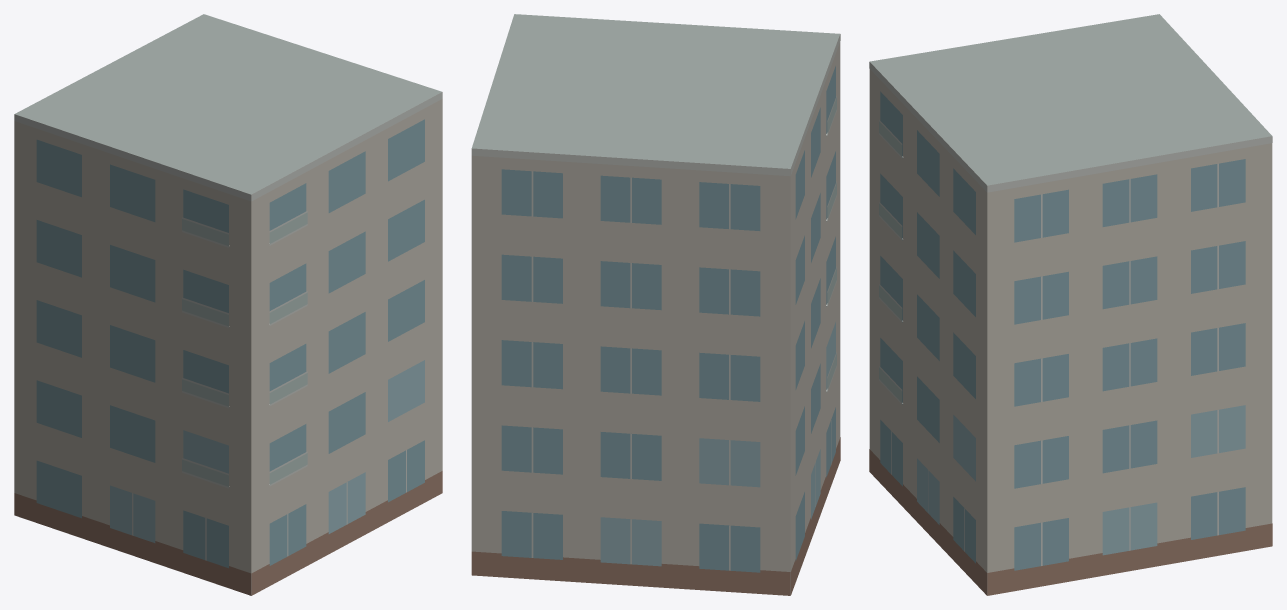
File: survey-upis-32853809.glb
3 views of the same model, side by side, from view 1: azimuth 30°, elevation 25°; view 2: azimuth 150°, elevation 25°; view 3: azimuth 270°, elevation 25° (orthographic). The views are drawn at different scales.
Visible parts, largest first — view 1: survey-upis-32853809.tmp; view 2: survey-upis-32853809.tmp; view 3: survey-upis-32853809.tmp.
Part boxes in pixels (x1,y1,x2,y2): survey-upis-32853809.tmp: [14, 14, 442, 595]; survey-upis-32853809.tmp: [471, 14, 840, 595]; survey-upis-32853809.tmp: [869, 14, 1272, 595].
Size of the model in its own units: 12.84 by 14.3 by 12.74.
